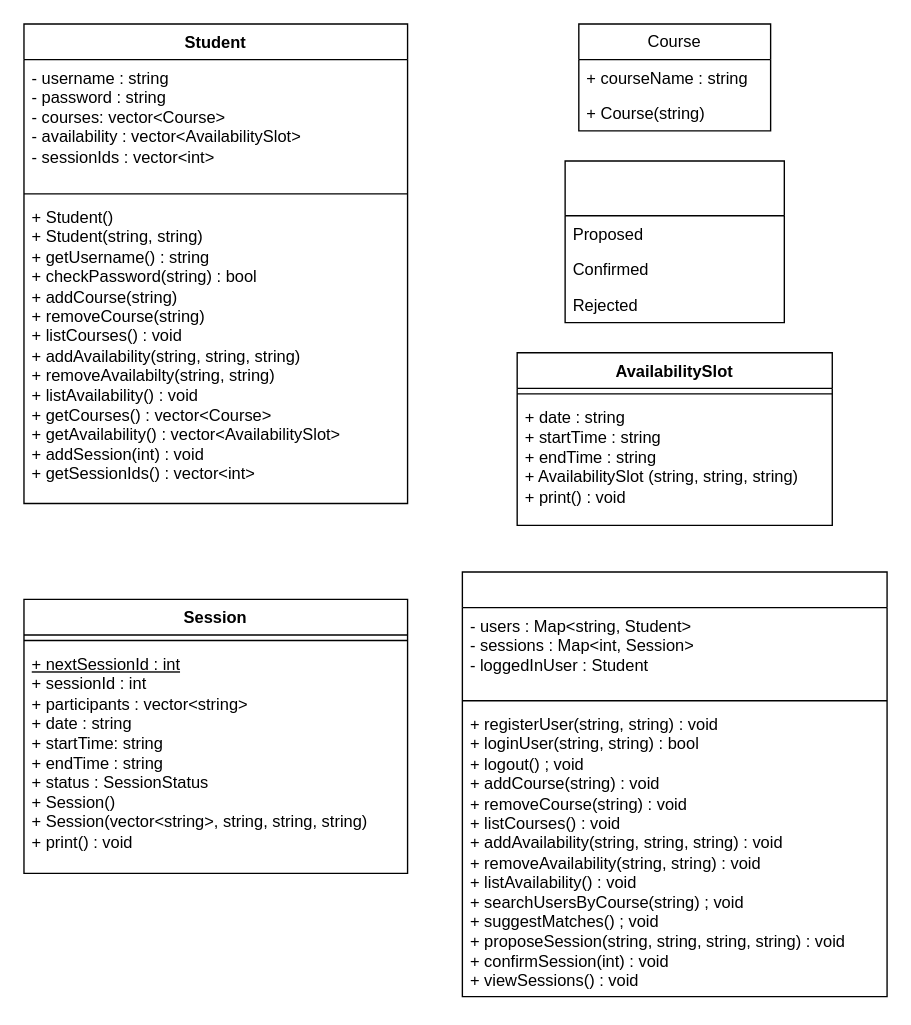
Image size: 911x1025. Some labels were removed from this diagram. The shapes that lost their labels are listed below. From the top down, each one's box as (x1, y1, x2, y2) in pixels, then its label:
(564, 160, 784, 323): <<enumeration>> SessionStatus
(461, 571, 887, 997): SchedulerApp
